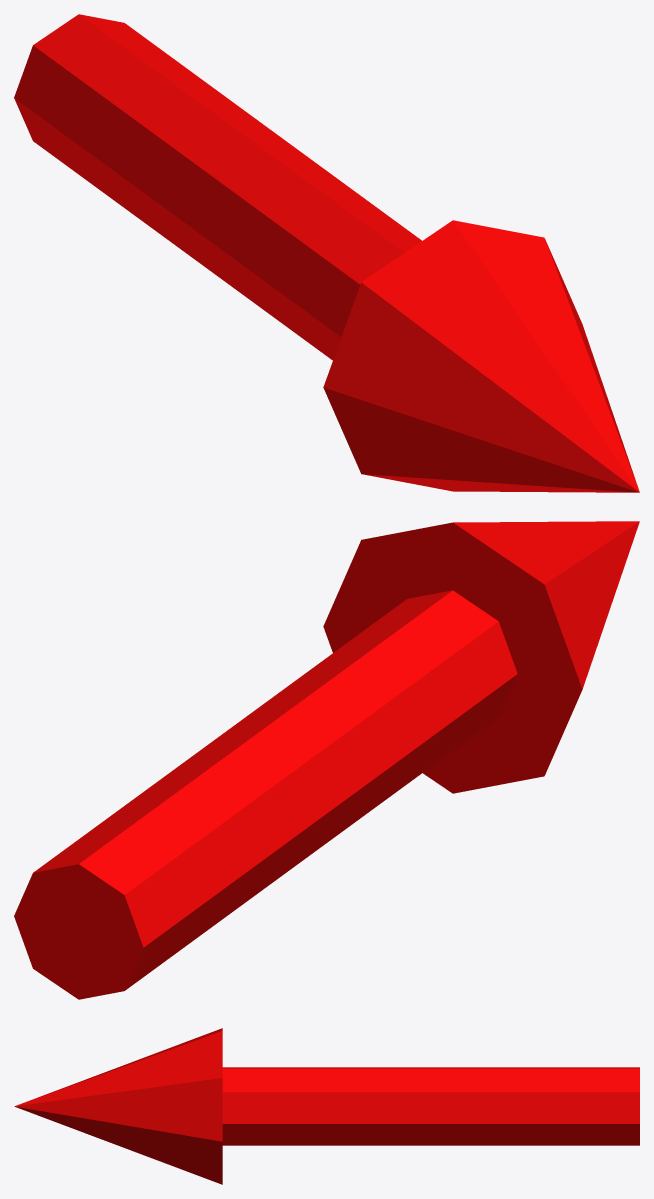
Rendered from Arrow.fbx.
3 renders of one model, top to bottom at view 1: azimuth 30°, elevation 25°; view 2: azimuth 150°, elevation 25°; view 3: azimuth 270°, elevation 25°, orthographic. The views are drawn at different scales.
Visible parts, largest first — view 1: ArrowMesh; view 2: ArrowMesh; view 3: ArrowMesh.
Boxes of the visible parts, box(x1,y1,x2,y2) form: ArrowMesh: box(14, 14, 639, 492); ArrowMesh: box(14, 521, 639, 999); ArrowMesh: box(14, 1028, 639, 1184).
Size of the model in its own units: 80 by 80 by 300.
